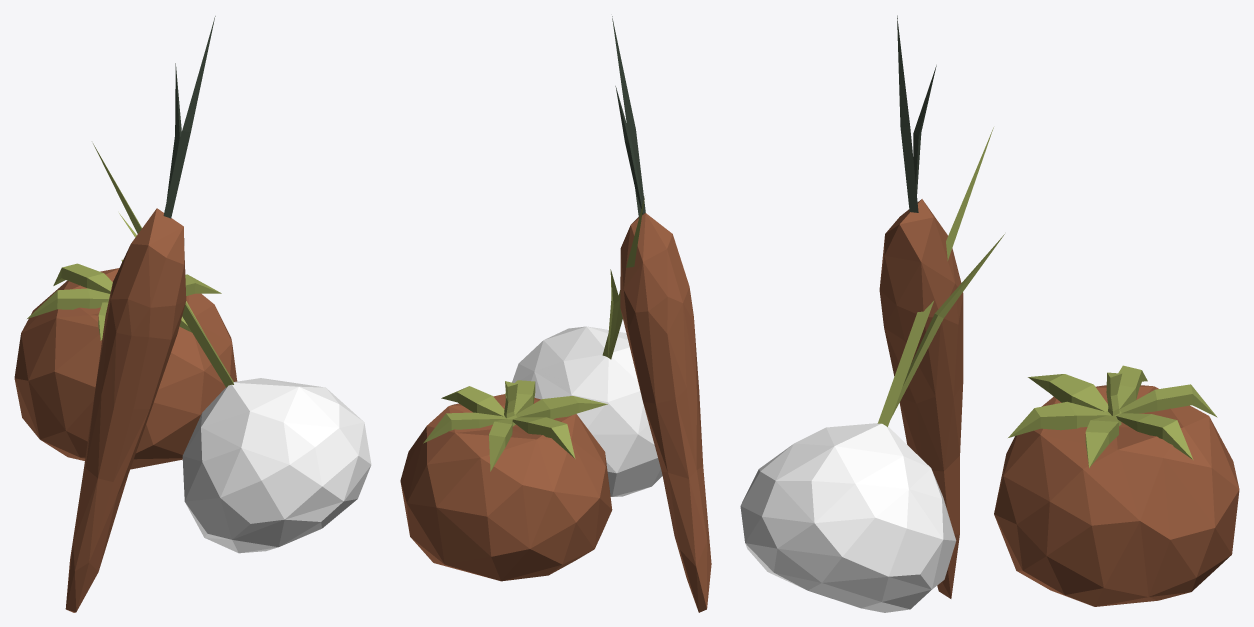
The picture shows the model from 3 angles, left to right: view 1: azimuth 30°, elevation 25°; view 2: azimuth 150°, elevation 25°; view 3: azimuth 270°, elevation 25°; orthographic projection. The views are drawn at different scales.
Parts seen in each view (by area): view 1: Onion_White, Carrot, Tomato; view 2: Tomato, Carrot, Onion_White; view 3: Tomato, Onion_White, Carrot.
Boxes of the visible parts, x1,y1,x2,y2 form: Onion_White: (93,143,371,553); Carrot: (65,16,215,612); Tomato: (14,259,237,469); Tomato: (400,380,612,581); Carrot: (612,16,711,612); Onion_White: (512,196,662,496); Tomato: (994,365,1239,606); Onion_White: (740,127,1004,612); Carrot: (879,15,963,598).
Size of the model in its own units: 132 by 297 by 207.
